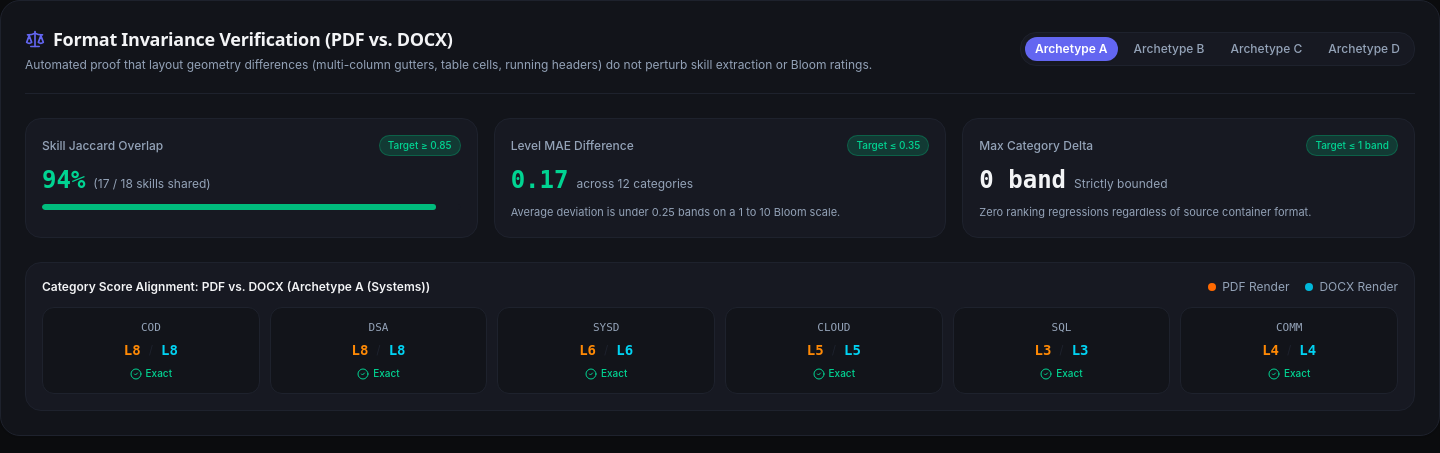
Test: Resume Parsing Feature Components › renders FormatInvarianceCard and toggles candidate proofs
Expected: the heading "Format Invariance Verification (PDF vs. DOCX)" is shown, [53,25,453,53]
Expected: the text "Skill Jaccard Overlap" is shown, [42,138,163,154]
// Switch to Archetype B proof
Click the button "Archetype B". click: {"x": 1169, "y": 49}
box: [1124,37,1214,61]
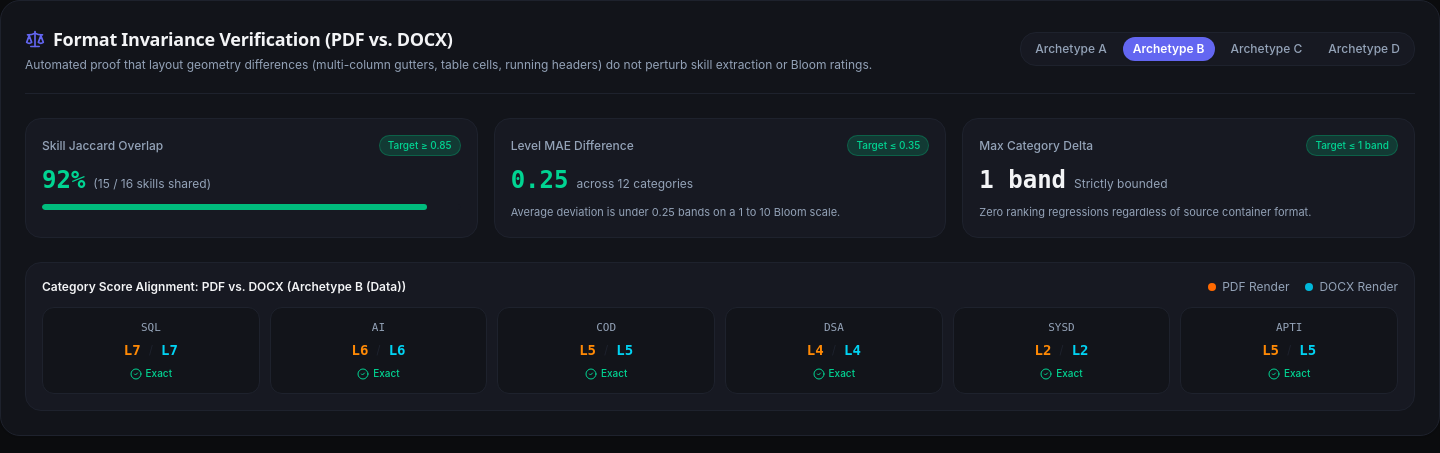
Result: the text "Category Score Alignment: PDF vs. DOCX (Archetype B (Data))" is shown at [42,278,406,294]
